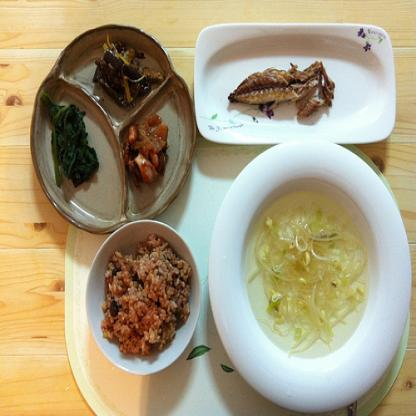Peixe: (218, 41, 354, 132)
